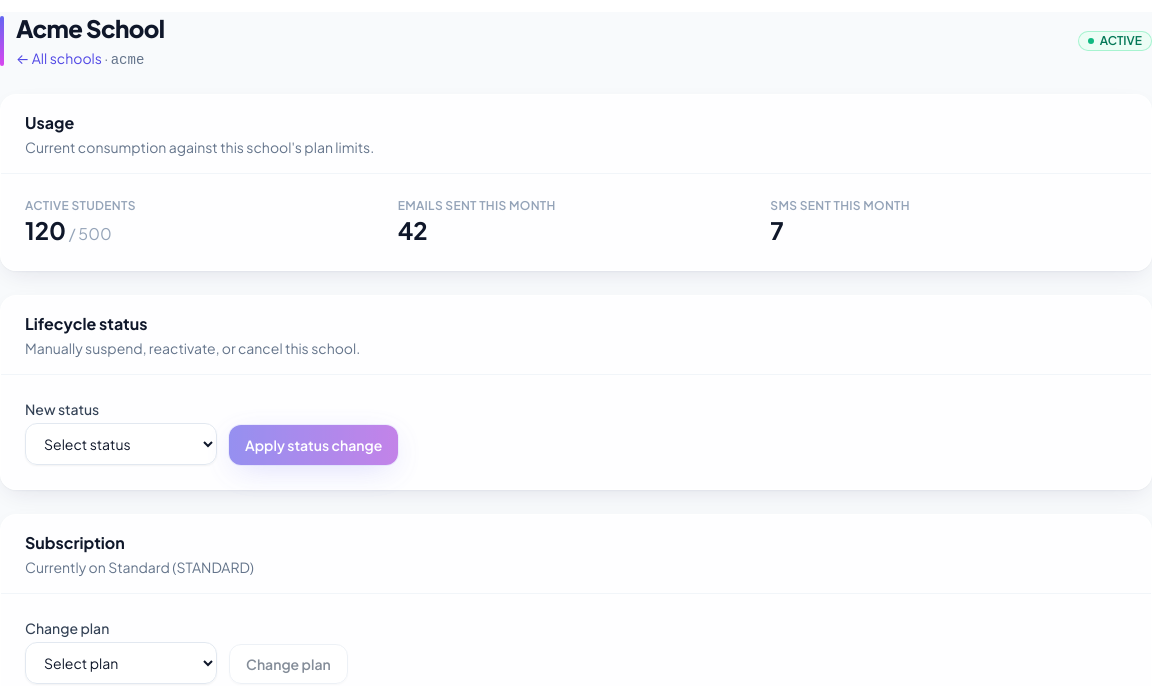
SchoolDetailPage › shows a status-change error banner on failure
Expected: the heading "Acme School" is shown, x1=16 y1=12 x2=164 y2=44
Select "SUSPENDED" in the dropdown labelled "New status" at point(121, 444), box x1=25 y1=423 x2=217 y2=465
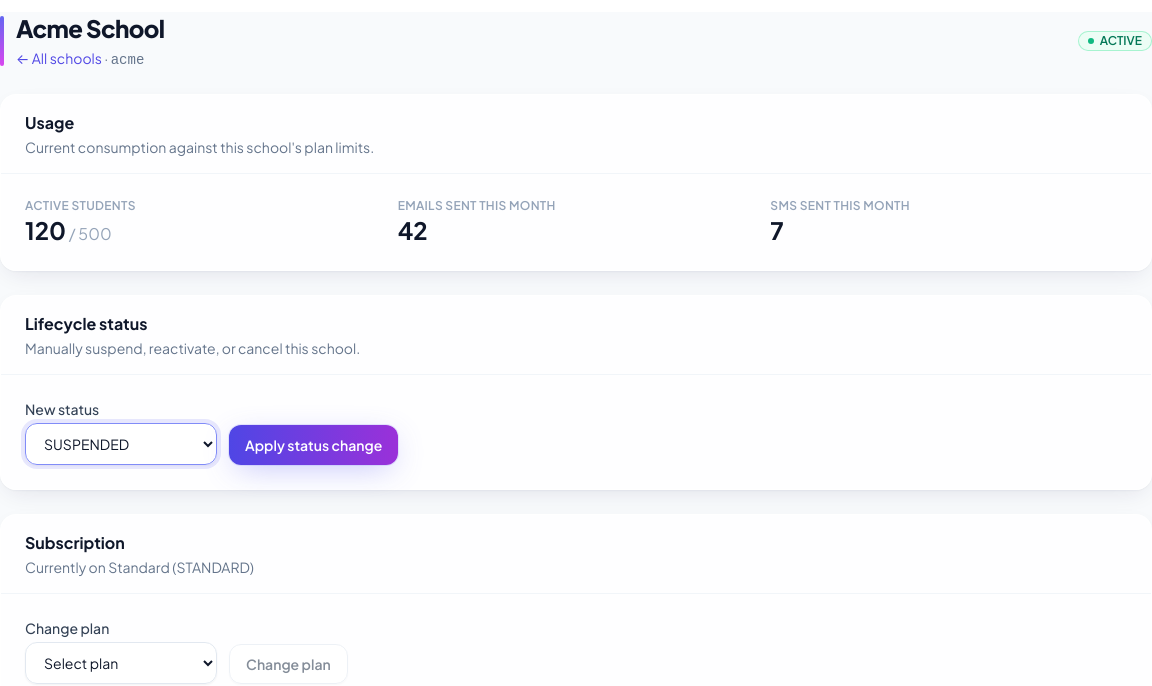
Click the button "Apply status change" at point(314, 445), box x1=229 y1=425 x2=398 y2=465
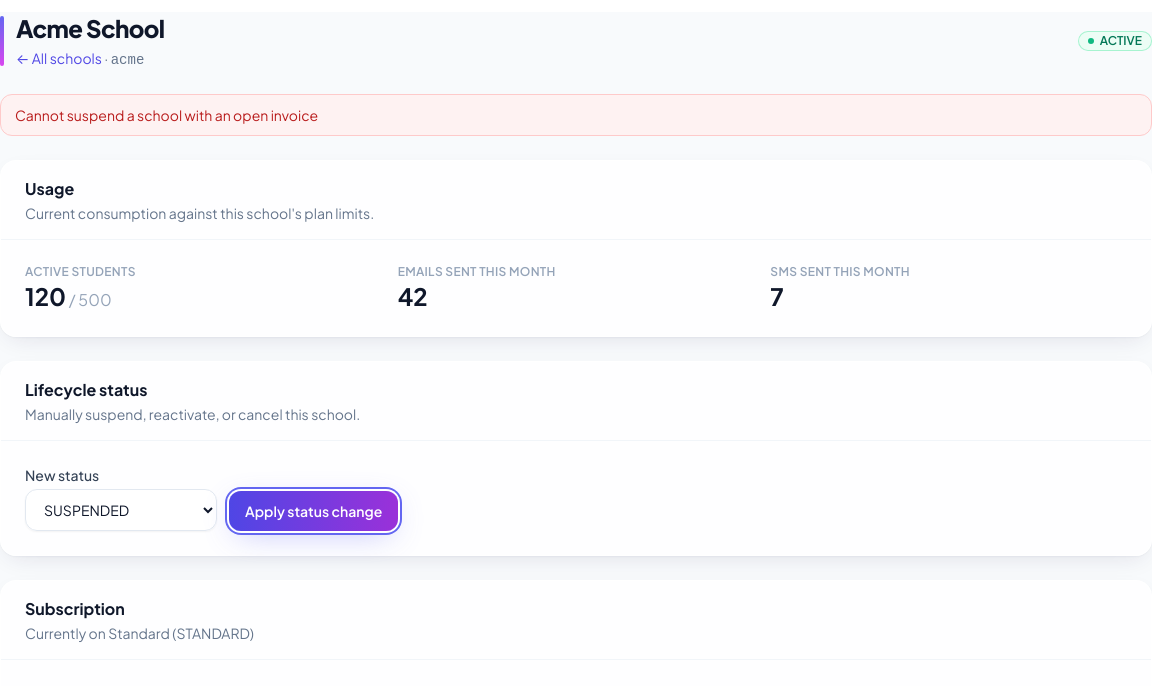
Now the message reads "Cannot suspend a school with an open invoice", box x1=15 y1=106 x2=318 y2=124
